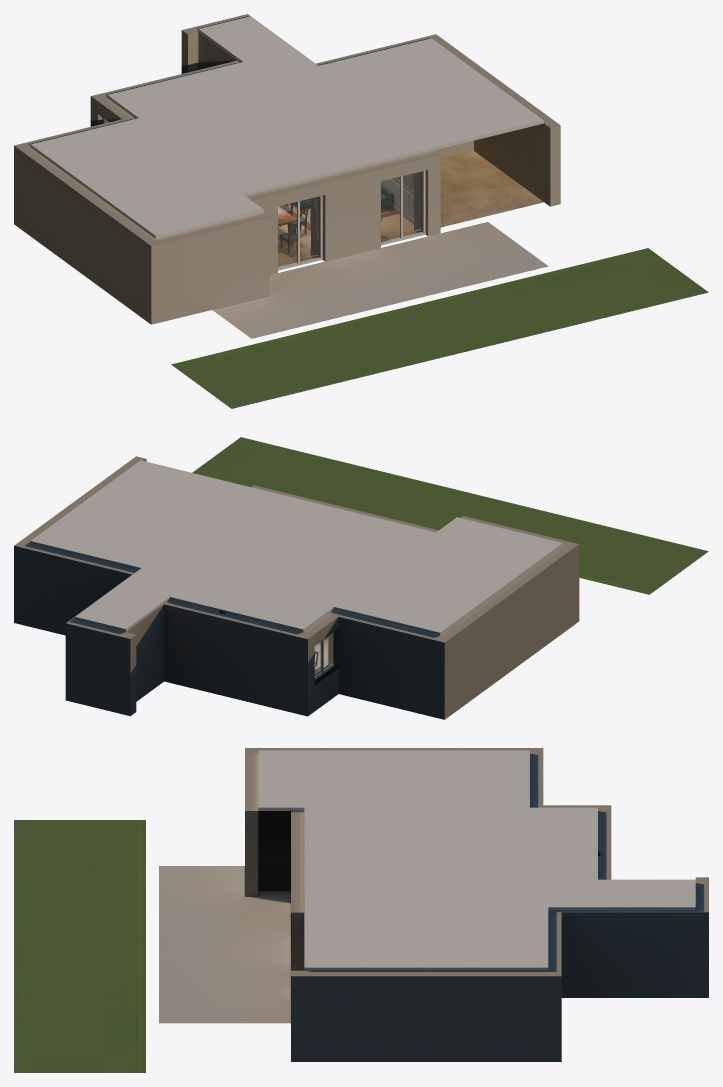
File: szene_dielen.glb
3 views of the same model, one above another, from view 1: azimuth 30°, elevation 25°; view 2: azimuth 150°, elevation 25°; view 3: azimuth 270°, elevation 25° (orthographic). The views are drawn at different scales.
Parts seen in each view (by area): view 1: VR_Decke_Creme, VR_Wand_Greige, VR_Aussen_Wiese, VR_Aussen_Terrasse, VR_Glas, Boden_Fusion, Parkett_Wohnen, VR_Fensterrahmen, VR_Vorhang_Leinen, VR_Leiste_Creme; view 2: VR_Decke_Creme, VR_Wand_Greige, VR_Aussen_Wiese, VR_Glas; view 3: VR_Decke_Creme, VR_Wand_Greige, VR_Aussen_Wiese, VR_Aussen_Terrasse, Boden_Fusion.
Part boxes in pixels (<box>): VR_Decke_Creme: <box>30,16,543,238</box>; VR_Wand_Greige: <box>14,14,560,324</box>; VR_Aussen_Wiese: <box>171,248,708,408</box>; VR_Aussen_Terrasse: <box>212,222,548,338</box>; VR_Glas: <box>104,119,422,267</box>; Boden_Fusion: <box>440,151,543,227</box>; Parkett_Wohnen: <box>278,213,421,266</box>; VR_Fensterrahmen: <box>102,117,425,270</box>; VR_Vorhang_Leinen: <box>310,171,421,255</box>; VR_Leiste_Creme: <box>318,171,421,256</box>; VR_Decke_Creme: <box>30,460,562,635</box>; VR_Wand_Greige: <box>14,456,579,719</box>; VR_Aussen_Wiese: <box>192,437,708,594</box>; VR_Glas: <box>315,633,332,676</box>; VR_Decke_Creme: <box>258,750,695,970</box>; VR_Wand_Greige: <box>245,748,708,1061</box>; VR_Aussen_Wiese: <box>14,820,145,1072</box>; VR_Aussen_Terrasse: <box>159,866,290,1023</box>; Boden_Fusion: <box>258,839,290,865</box>.
Bounding box in the file's own units: 16.5 × 2.7 × 19.15.
Materials: 46 (45 with a texture image).
